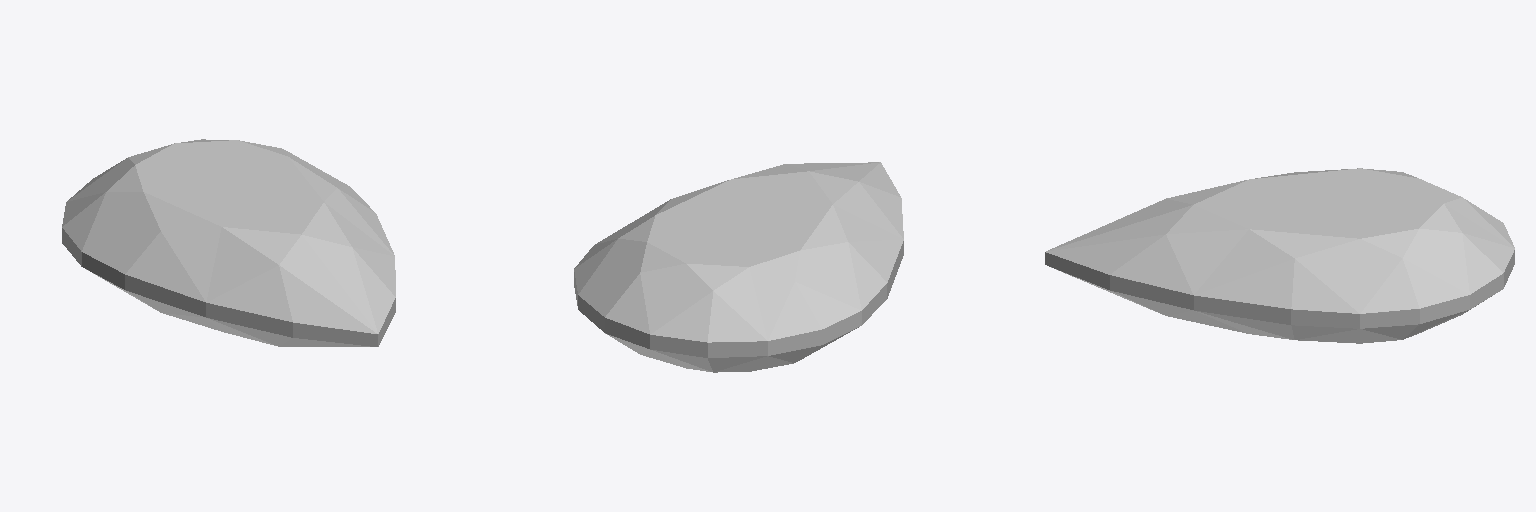
The picture shows the model from 3 angles: view 1: azimuth 30°, elevation 25°; view 2: azimuth 150°, elevation 25°; view 3: azimuth 270°, elevation 25°; orthographic projection.
Visible parts, largest first — view 1: Gemstone_02.001; view 2: Gemstone_02.001; view 3: Gemstone_02.001.
Part boxes in pixels (bbox=[...]): Gemstone_02.001: bbox=[62, 139, 395, 346]; Gemstone_02.001: bbox=[574, 162, 903, 372]; Gemstone_02.001: bbox=[1045, 168, 1514, 343].
Size of the model in its own units: 0.7537 by 0.2815 by 1.14.